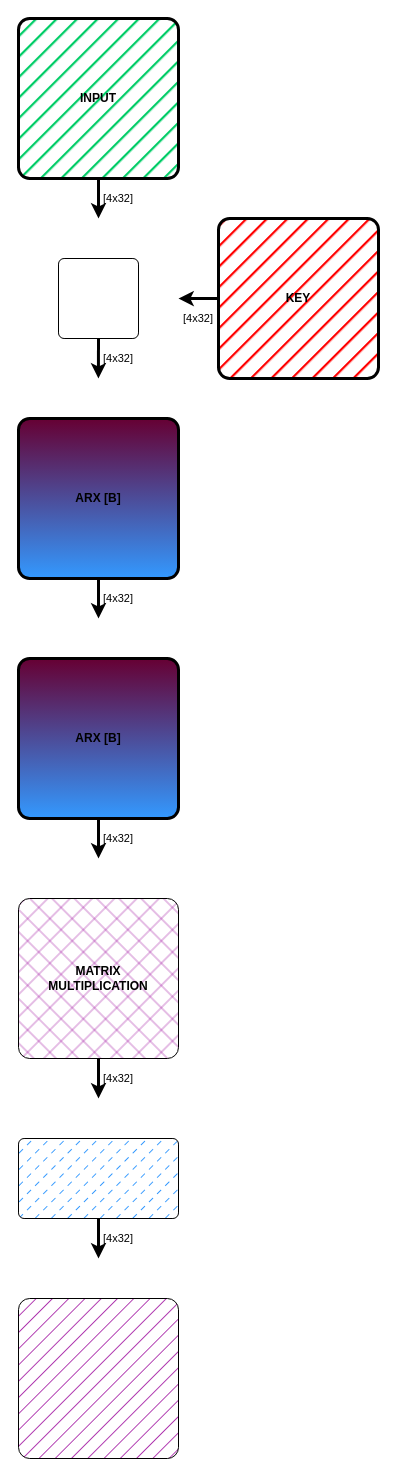
This 397x1476 diagram has some shape labels left out. Here are the shapes that lost their labels. From the top down, the centre of each, then its label:
(98,298): XOR
(98,1178): 4-ROUND PHT
(98,1378): OUTPUT
